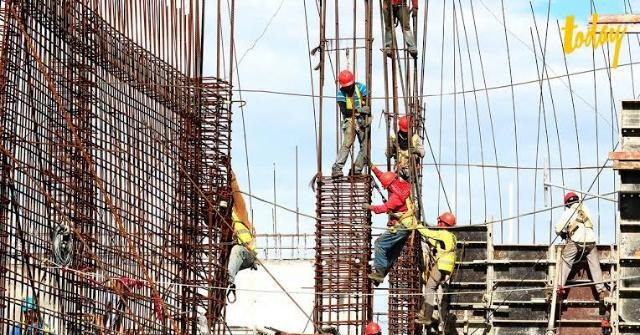helmet: (335, 68, 359, 85), (436, 210, 458, 228), (398, 114, 416, 134), (380, 172, 400, 188), (564, 192, 582, 207), (22, 297, 38, 311), (212, 175, 226, 191), (565, 192, 583, 204), (365, 324, 382, 335), (562, 191, 572, 194), (356, 78, 359, 82)
vest: (421, 228, 459, 278), (217, 204, 256, 252), (388, 192, 418, 230), (392, 134, 422, 170), (340, 88, 366, 122), (22, 324, 50, 335)
